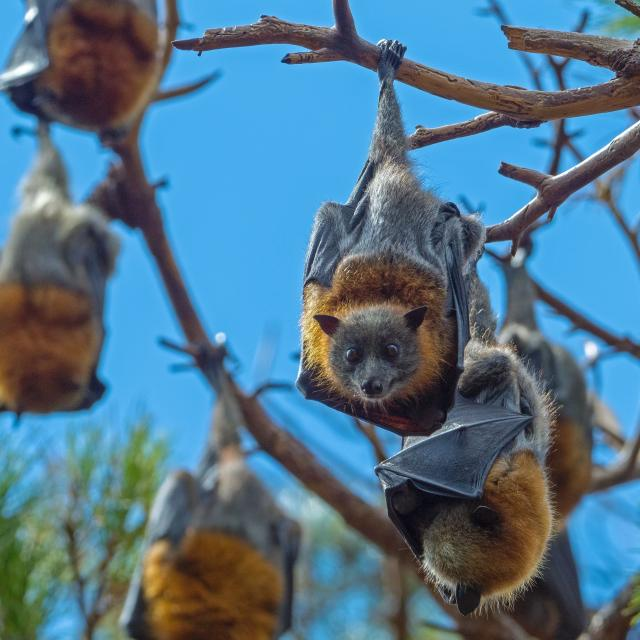Bat: (297, 48, 480, 425), (382, 358, 546, 614)
